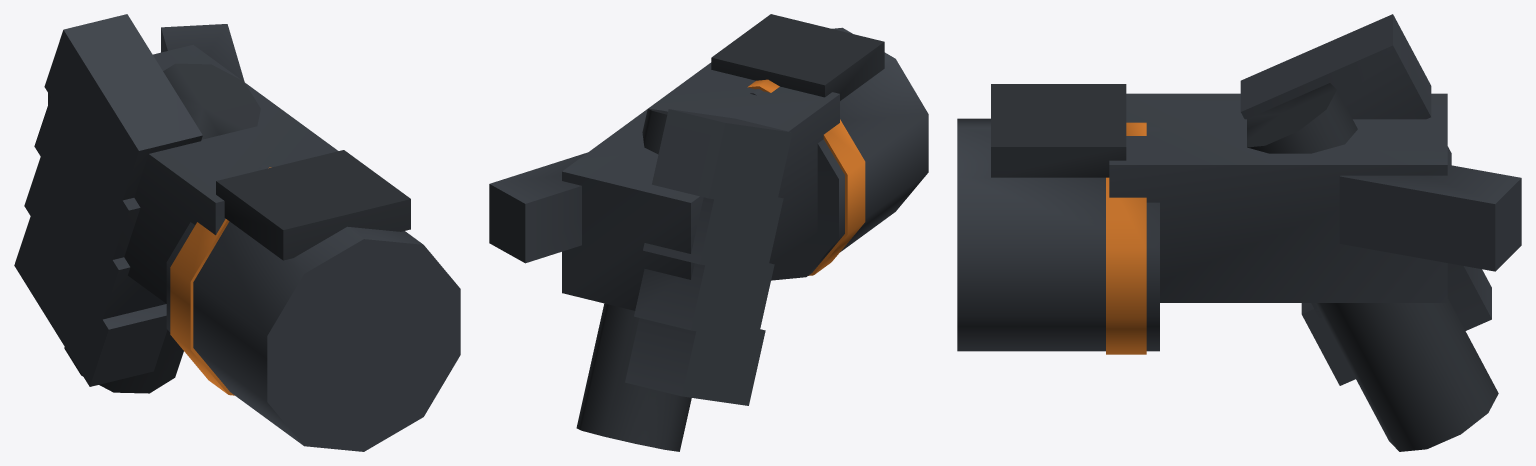
The model's file is hand.88483364.glb.
3 views of the same model, side by side, from view 1: azimuth 30°, elevation 25°; view 2: azimuth 150°, elevation 25°; view 3: azimuth 270°, elevation 25° (orthographic). The views are drawn at different scales.
Visible parts, largest first — view 1: Hand; view 2: Hand; view 3: Hand.
Boxes of the visible parts, bbox=[...] form: Hand: bbox=[14, 14, 460, 451]; Hand: bbox=[489, 14, 928, 451]; Hand: bbox=[957, 14, 1521, 451].
Bounding box in the file's own units: 0.0792 × 0.1259 × 0.1669.
